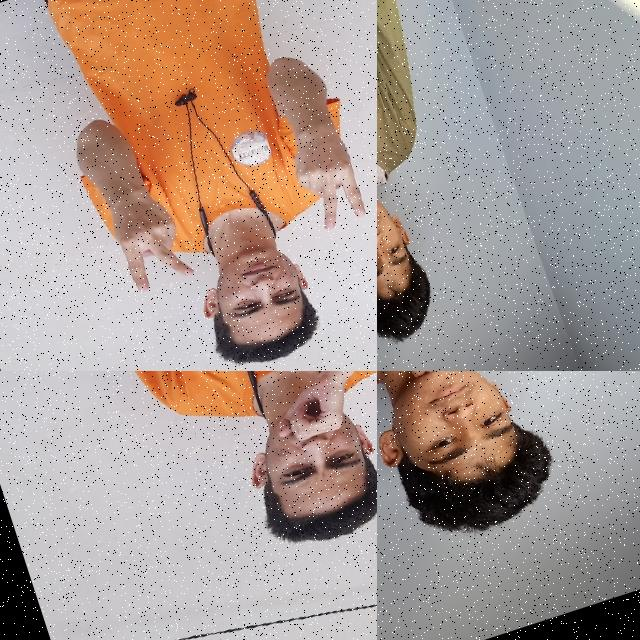Chin Flick: (377, 371, 559, 534), (377, 106, 448, 349)
Fist Mouth: (215, 371, 377, 565)
Reversed Victory: (90, 166, 206, 306), (273, 108, 377, 245)
